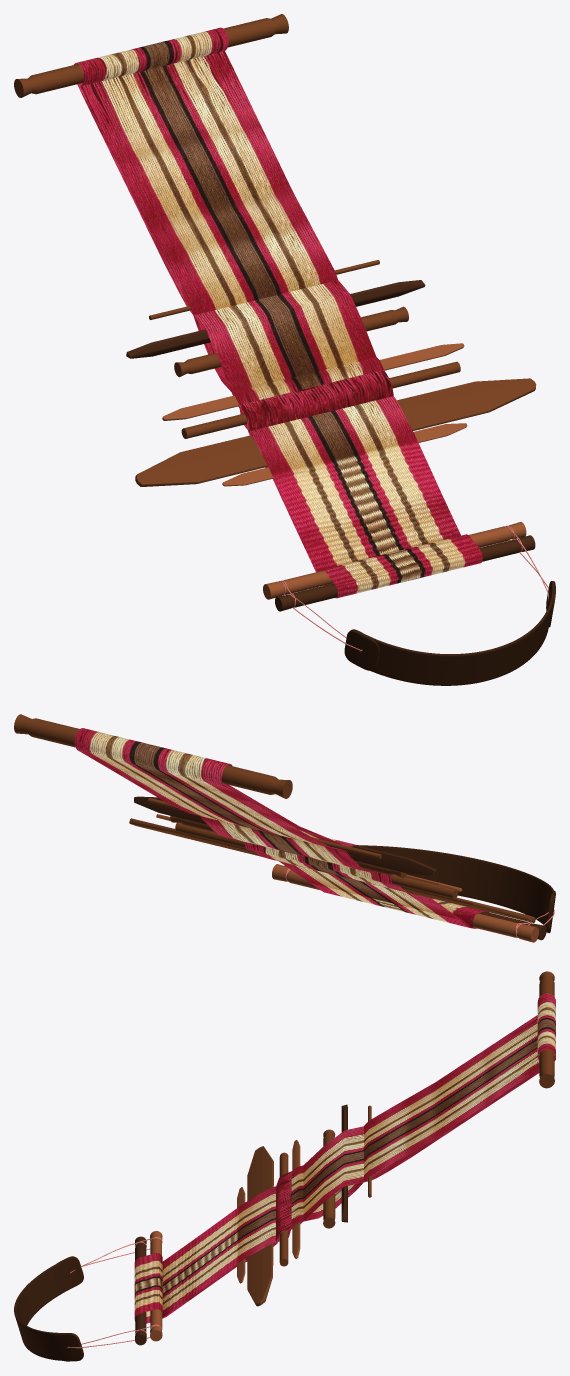
The picture shows the model from 3 angles, top to bottom: view 1: azimuth 30°, elevation 25°; view 2: azimuth 150°, elevation 25°; view 3: azimuth 270°, elevation 25°; orthographic projection. The views are drawn at different scales.
Visible parts, largest first — view 1: fabric_top, fabric_bottom, bar_04_L, strap_m, fabric_top_s, bar_top, bar_08, bar_02, bar_06, bar_01, bar_05, bar_07 (+2 smaller); view 2: fabric_bottom, strap_m, fabric_top, bar_top, bar_08, bar_04_L, bar_02, bar_05, bar_07, bar_09, bar_06, bar_01; view 3: fabric_top, fabric_bottom, strap_m, bar_04_L, bar_top, fabric_top_s, strap_patch_R, bar_02, bar_01, bar_05, bar_07, bar_06.
Boxes of the visible parts, x1,y1,x2,y2 form: fabric_top: (80, 51, 460, 571); fabric_bottom: (73, 27, 482, 598); bar_04_L: (135, 378, 536, 486); strap_m: (350, 581, 554, 685); fabric_top_s: (239, 369, 393, 431); bar_top: (14, 14, 288, 97); bar_08: (126, 280, 425, 358); bar_02: (263, 522, 526, 599); bar_06: (162, 343, 464, 420); bar_01: (275, 535, 535, 611); bar_05: (181, 361, 460, 438); bar_07: (174, 306, 408, 377); fabric_bottom: (74, 728, 489, 928); strap_m: (358, 845, 554, 932); fabric_top: (200, 784, 473, 928); bar_top: (14, 714, 292, 798); bar_08: (134, 796, 436, 875); bar_04_L: (129, 818, 535, 922); bar_02: (272, 864, 538, 942); bar_05: (175, 823, 458, 899); bar_07: (170, 816, 406, 878); bar_09: (148, 797, 381, 858); bar_06: (156, 814, 462, 891); bar_01: (284, 865, 546, 940); fabric_top: (162, 1015, 539, 1317); fabric_bottom: (134, 993, 555, 1323); strap_m: (14, 1256, 83, 1360); bar_04_L: (247, 1146, 273, 1306); bar_top: (539, 971, 554, 1088); fabric_top_s: (276, 1171, 291, 1241); strap_patch_R: (52, 1333, 83, 1361); bar_02: (150, 1231, 162, 1341); bar_01: (135, 1236, 146, 1345); bar_05: (279, 1152, 288, 1266); bar_07: (323, 1129, 335, 1228); bar_06: (292, 1140, 300, 1258).
Bounding box in the file's own units: 1.35 × 1.28 × 2.
2 materials, 2 textured.
